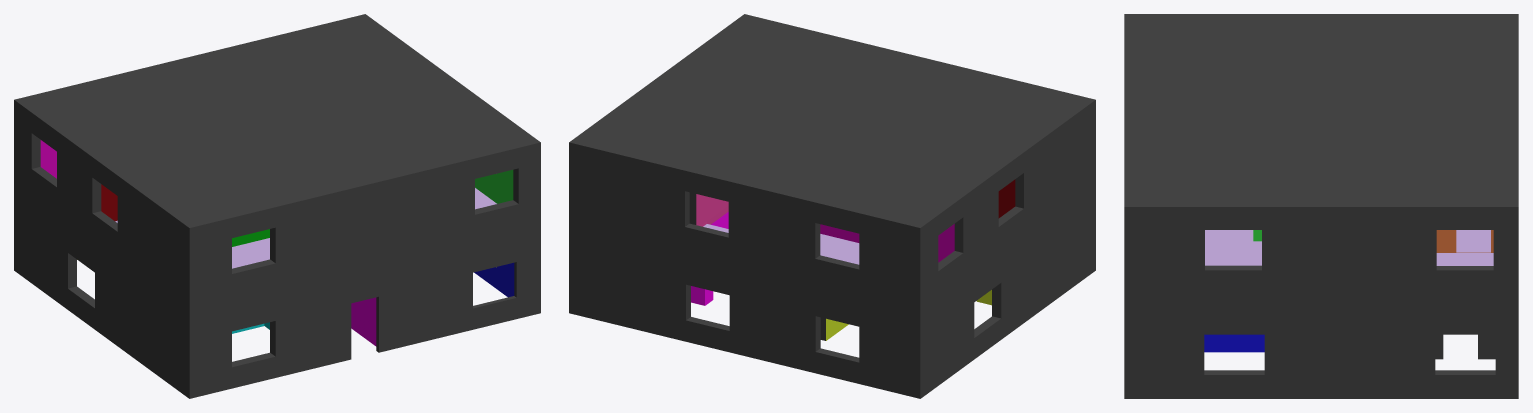
The model's file is houseSmlrWls.glb.
3 views of the same model, side by side, from view 1: azimuth 30°, elevation 25°; view 2: azimuth 150°, elevation 25°; view 3: azimuth 270°, elevation 25° (orthographic). The views are drawn at different scales.
Visible parts, largest first — view 1: Plane.006; view 2: Plane.006; view 3: Plane.006.
Boxes of the visible parts, box(x1,y1,x2,y2) form: Plane.006: box(14, 14, 540, 398); Plane.006: box(569, 14, 1095, 398); Plane.006: box(1124, 14, 1518, 398).
Size of the model in its own units: 7.81 by 3.63 by 6.76.
